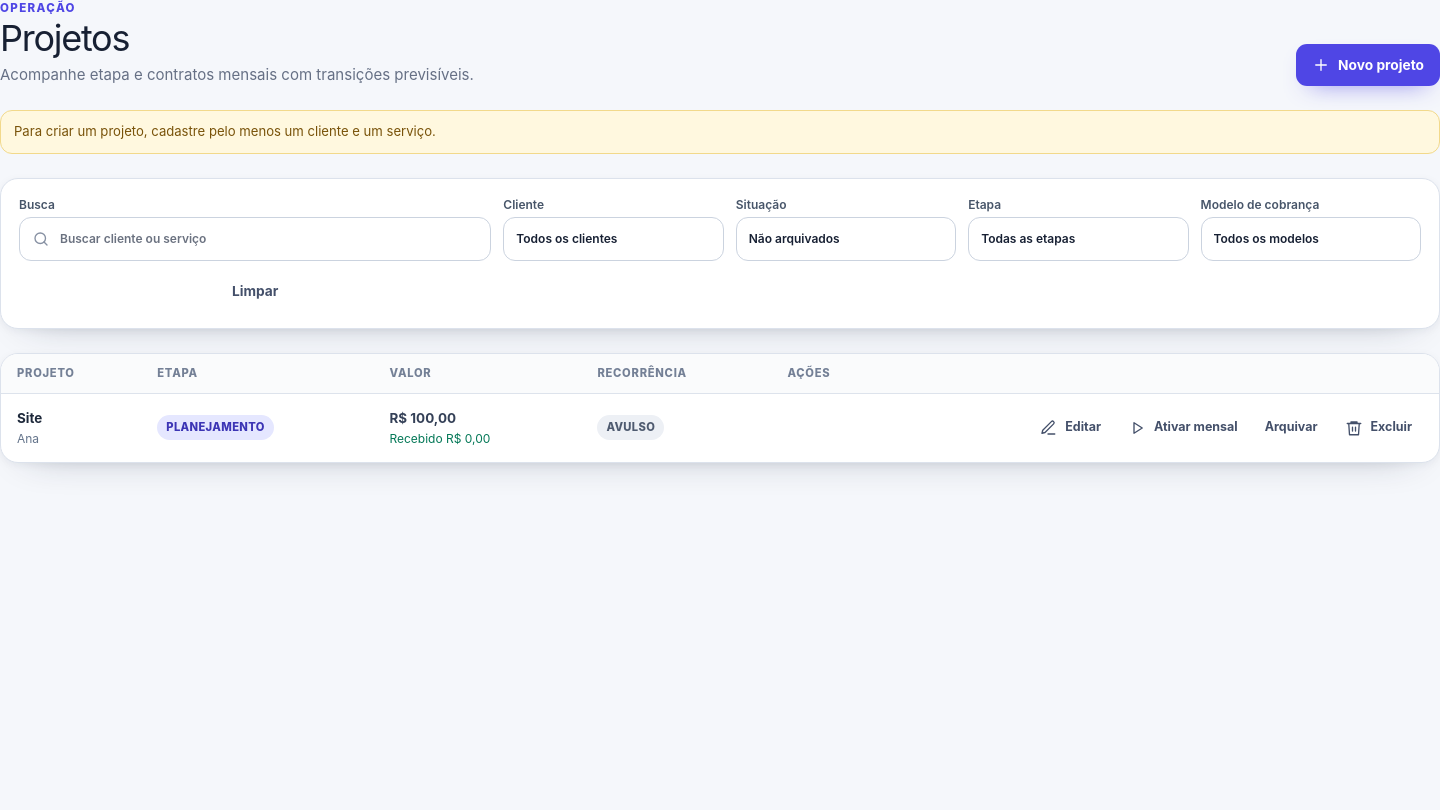
ativa cobrança mensal de um projeto avulso e permite pausá-la
Click the button "Ativar mensal" at {"x": 1183, "y": 428}, box 1117,410 -> 1249,445
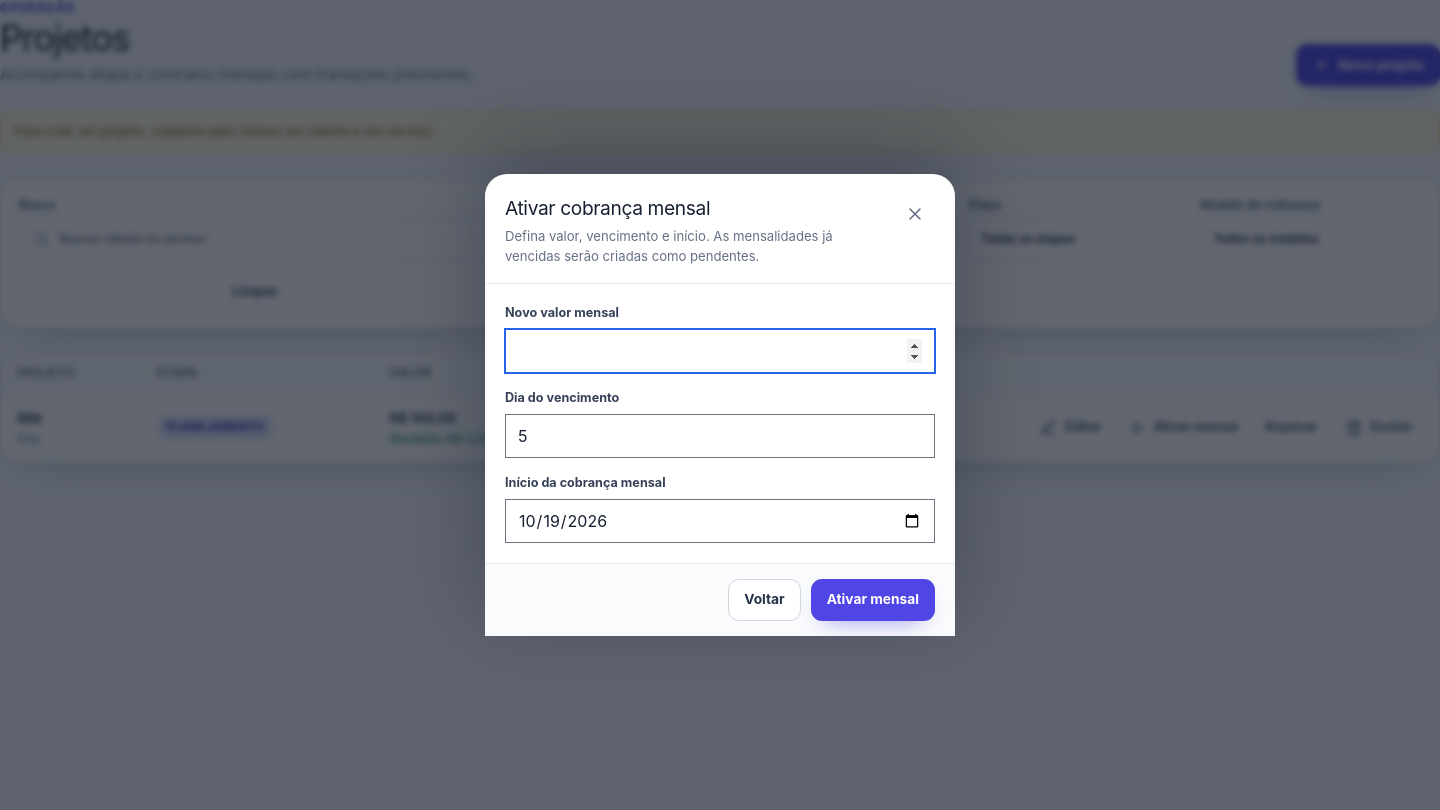
Type "200" into the number field labelled "Novo valor mensal" at {"x": 720, "y": 351}, box 505,329 -> 935,373
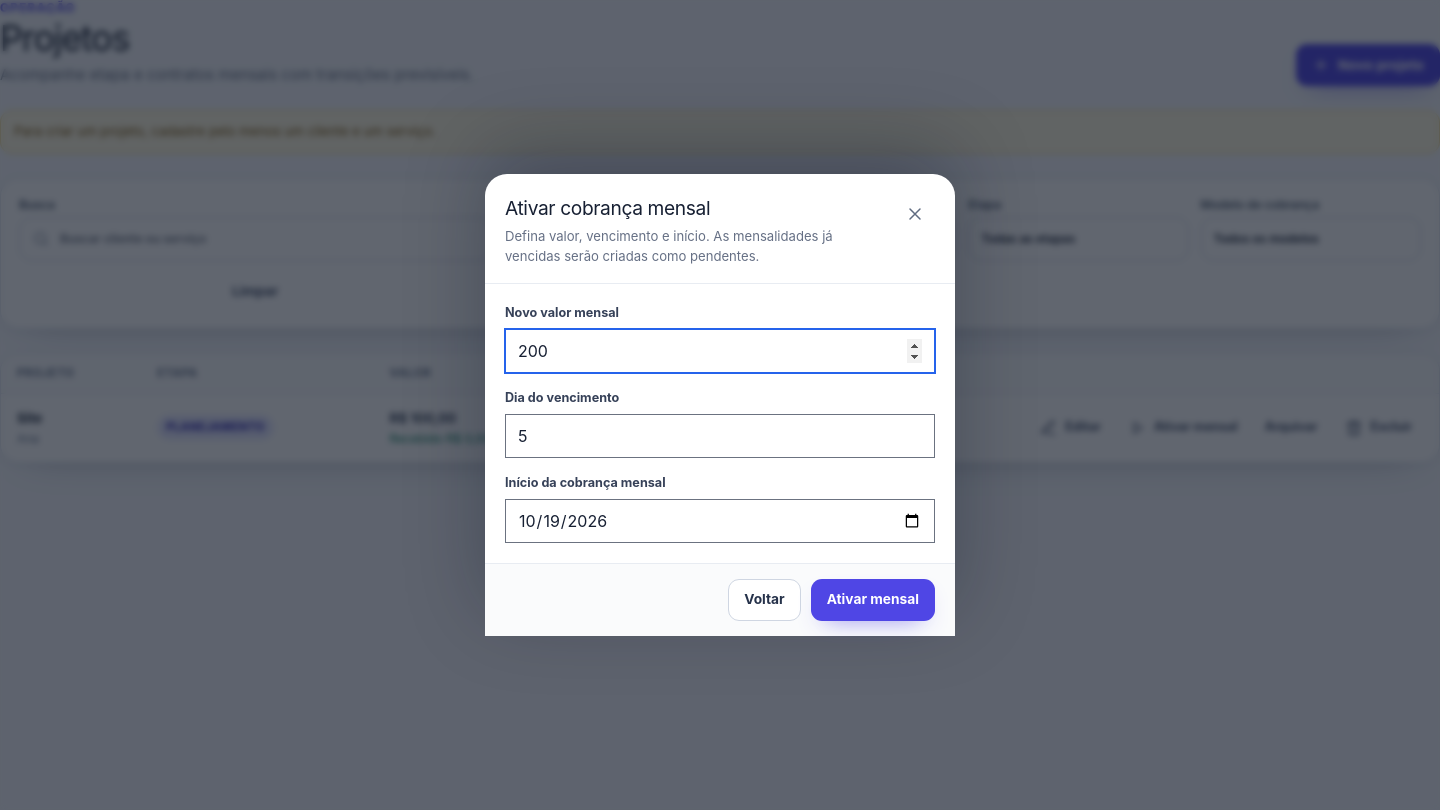
Type "2026-04-01" into the date field labelled "Início da cobrança mensal" at {"x": 720, "y": 520}, box 505,498 -> 935,542
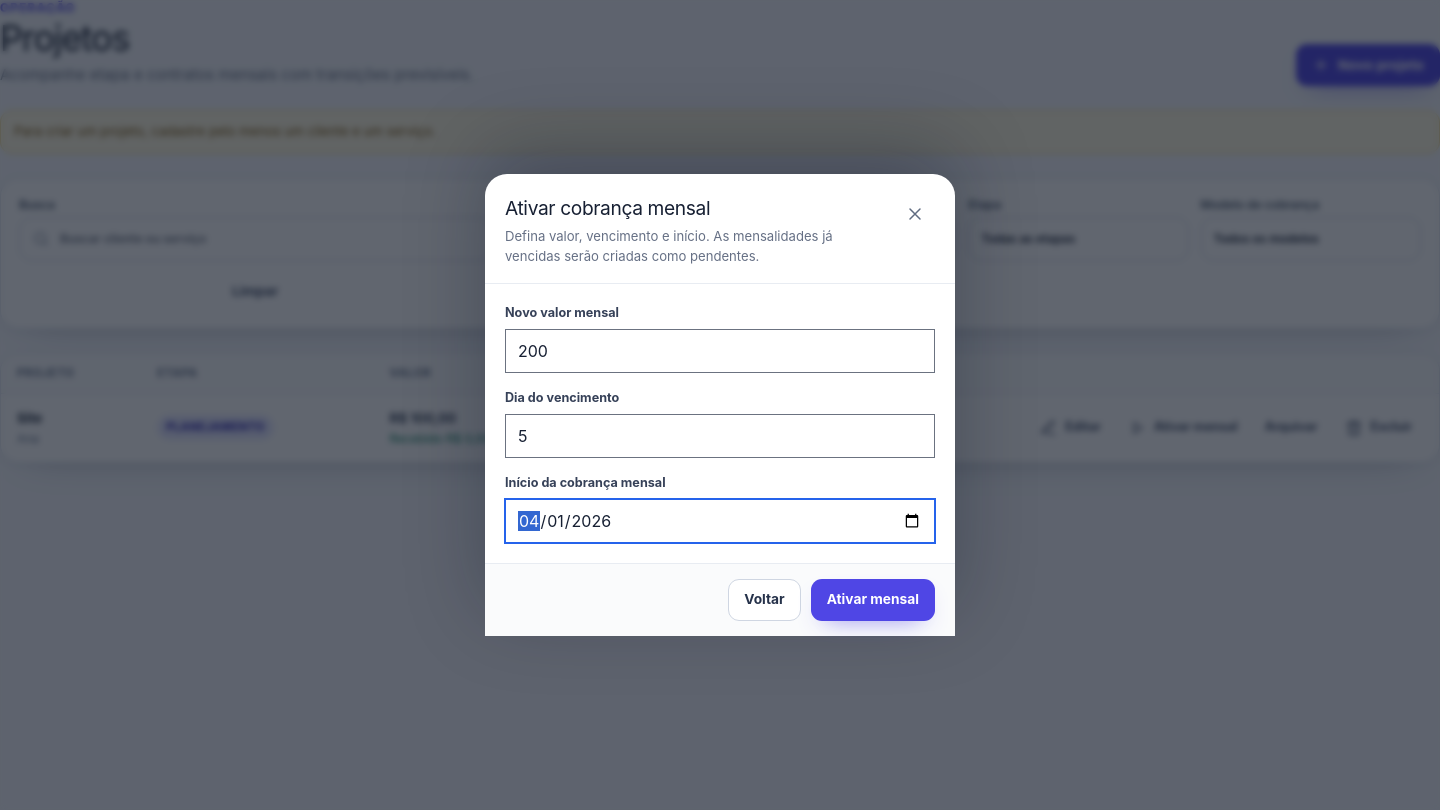
Click the button "Ativar mensal" at {"x": 873, "y": 600}, box 811,578 -> 935,620
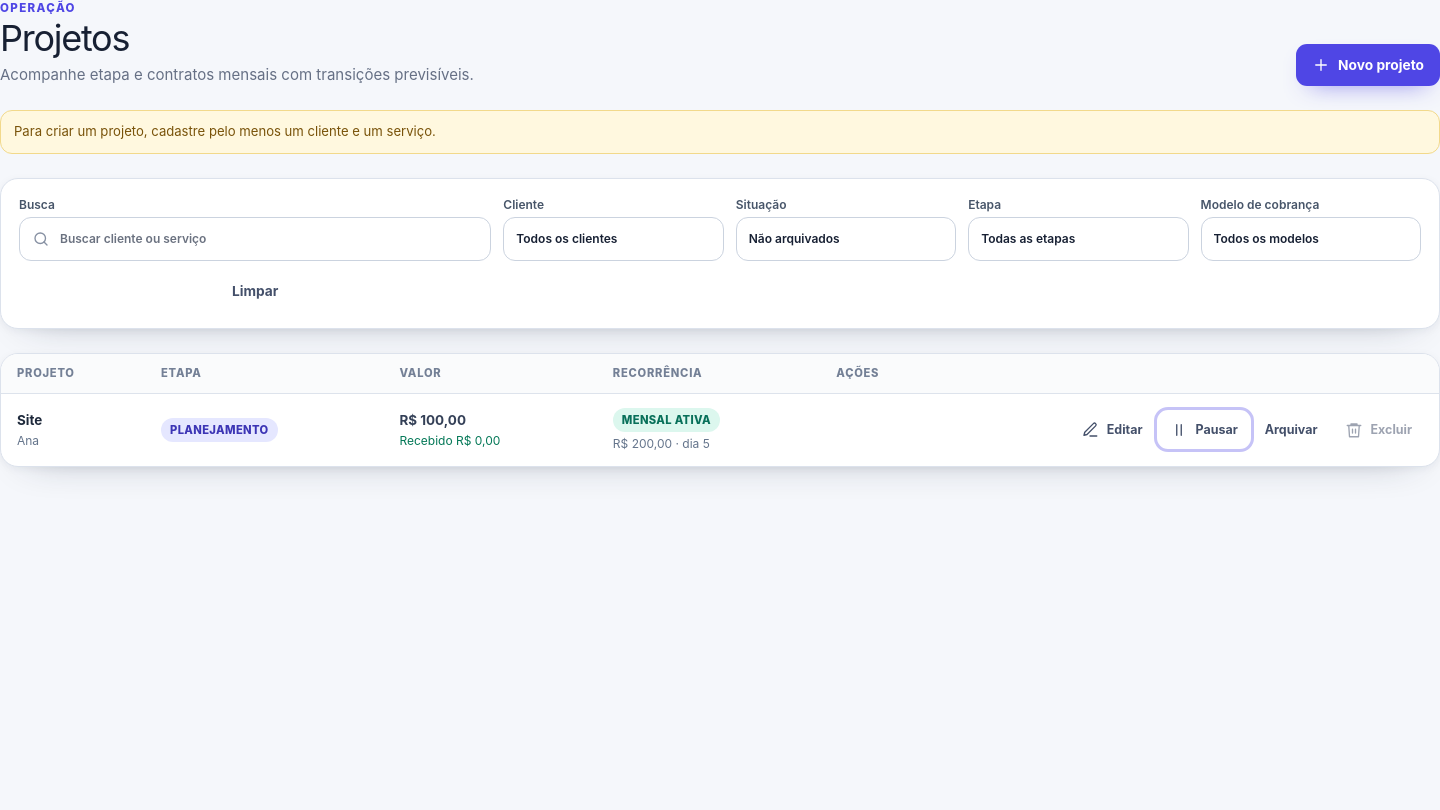
Click the button "Pausar" at {"x": 1204, "y": 430}, box 1158,412 -> 1249,447
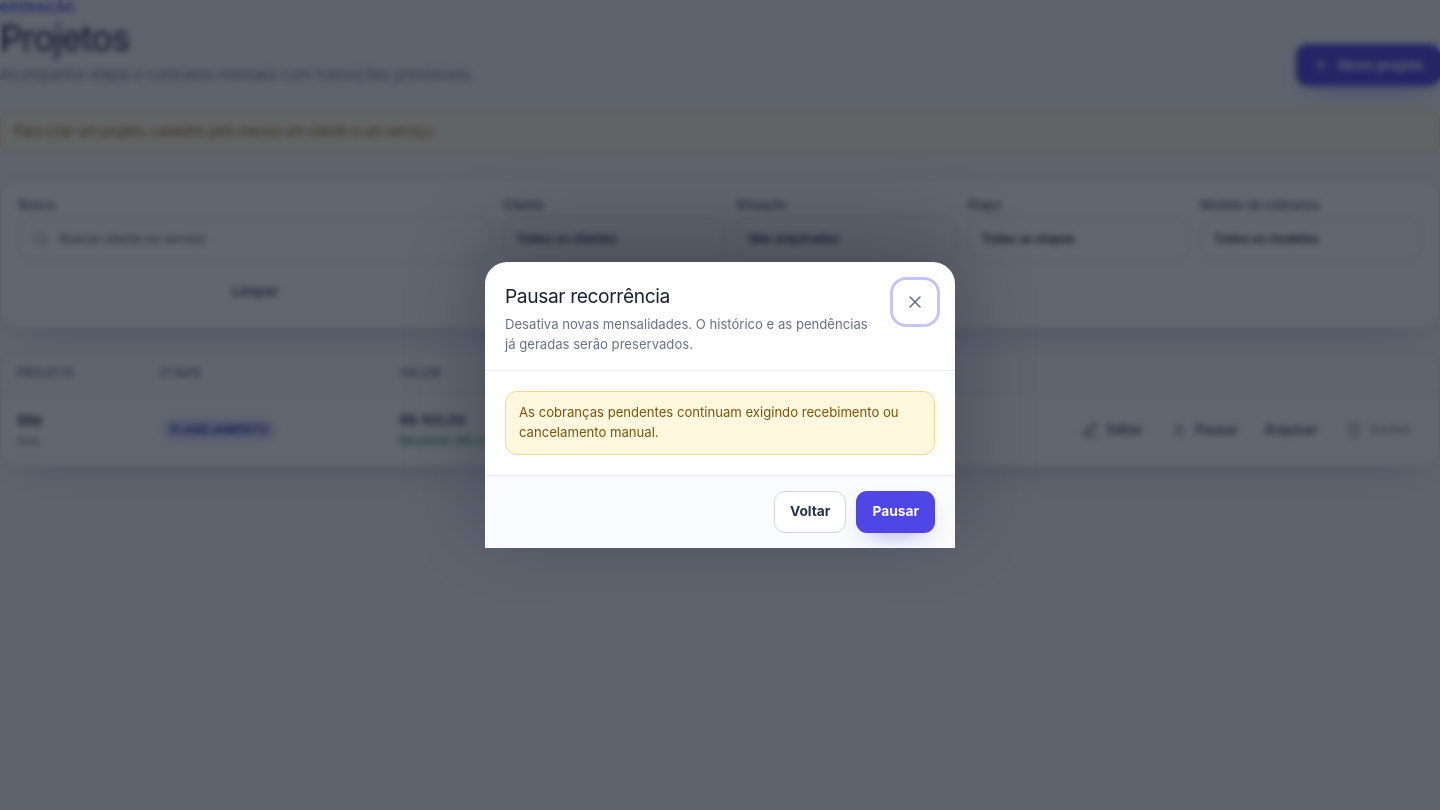
Click the button "Pausar" at {"x": 896, "y": 512}, box 856,491 -> 935,533
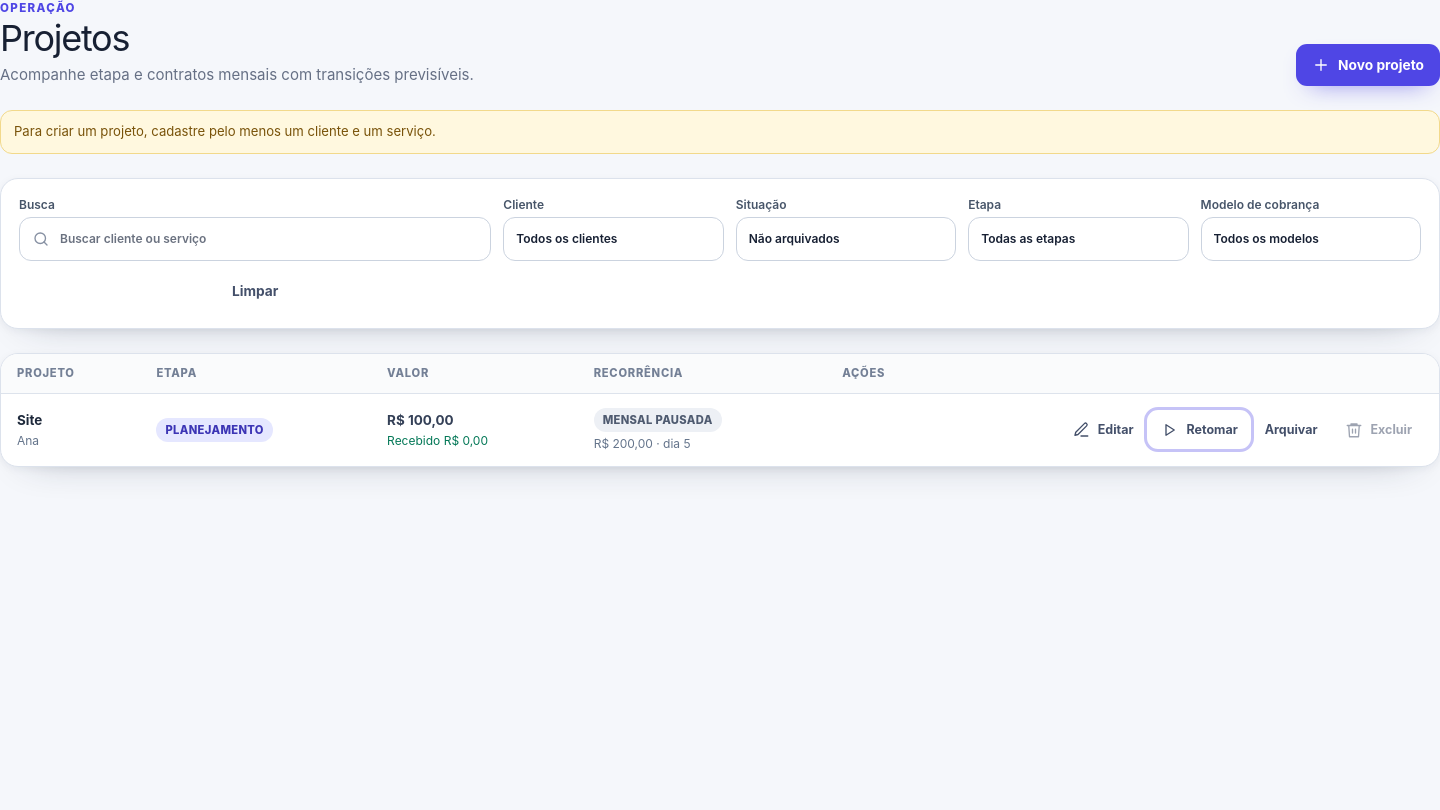
Check: the number of buttons "Retomar" is 2
